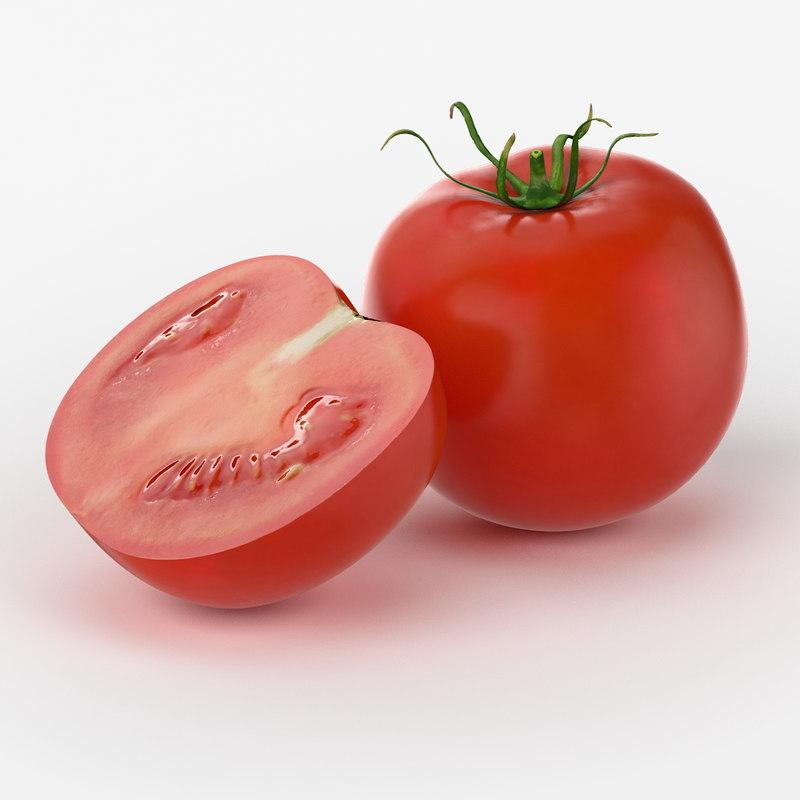tomato: (349, 100, 751, 550), (48, 227, 453, 612)
